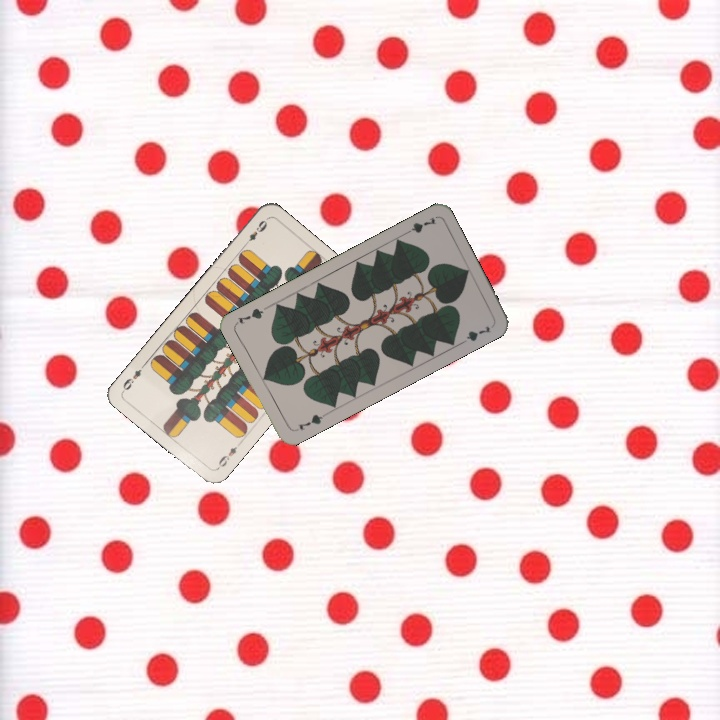E9: (240, 215, 270, 249), (213, 438, 243, 472)
G7: (400, 213, 439, 238), (290, 410, 328, 434)
